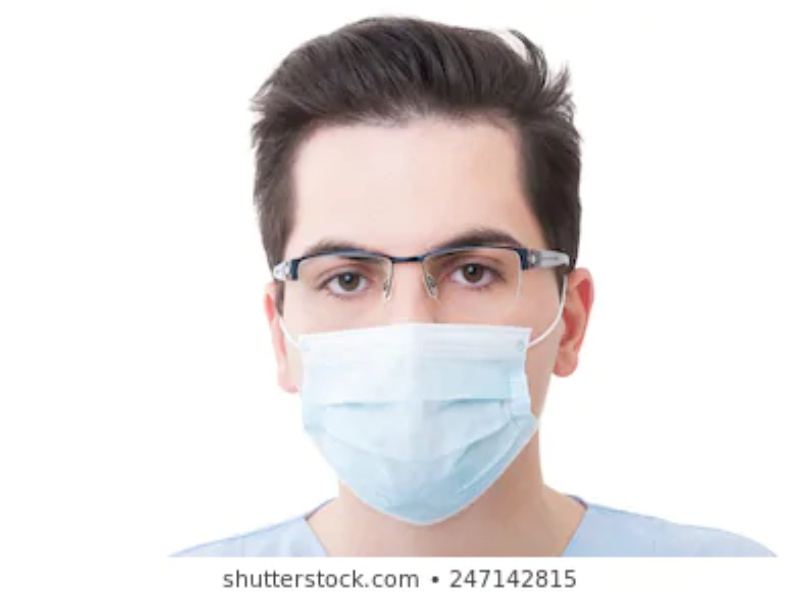ManaoArotava: (246, 73, 601, 539)
